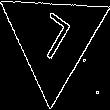L_SW: (29, 9, 77, 68)
